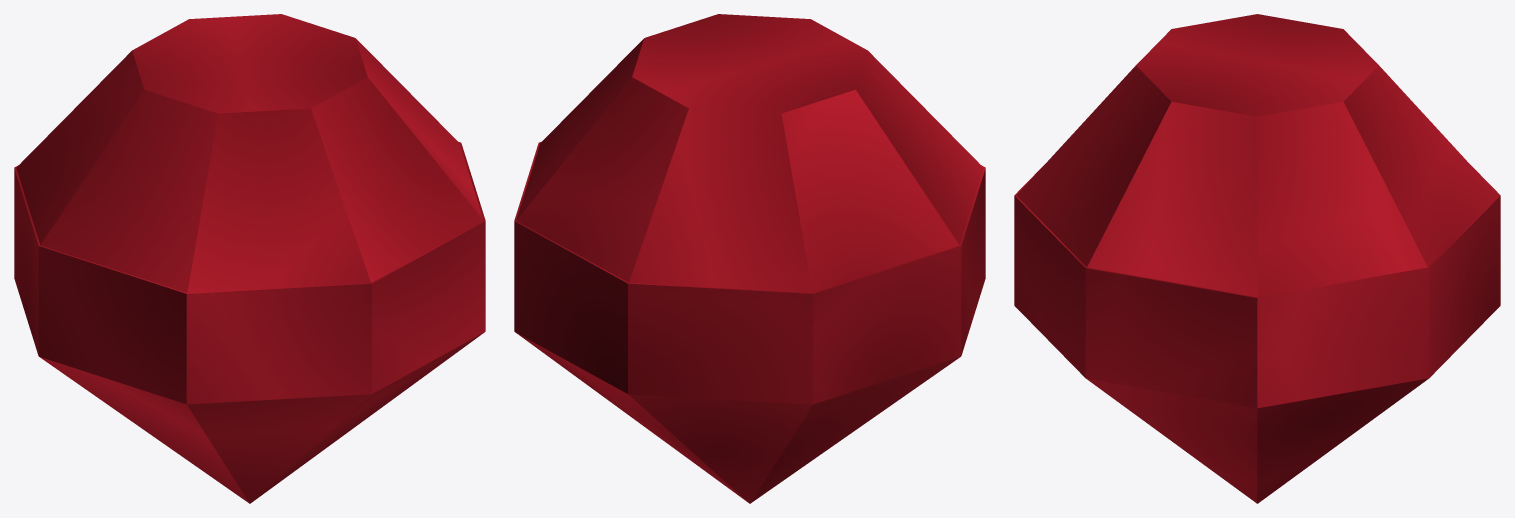
The model's file is mdl_pieza_rubi.fbx.
The picture shows the model from 3 angles, left to right: view 1: azimuth 30°, elevation 25°; view 2: azimuth 150°, elevation 25°; view 3: azimuth 270°, elevation 25°; orthographic projection.
Parts seen in each view (by area): view 1: gema_rubi; view 2: gema_rubi; view 3: gema_rubi.
Part boxes in pixels (box(x1,y1,x2,y2)): gema_rubi: box(14, 14, 485, 503); gema_rubi: box(514, 14, 985, 503); gema_rubi: box(1014, 14, 1500, 503).
Bounding box in the file's own units: 100 × 99.5 × 100.
